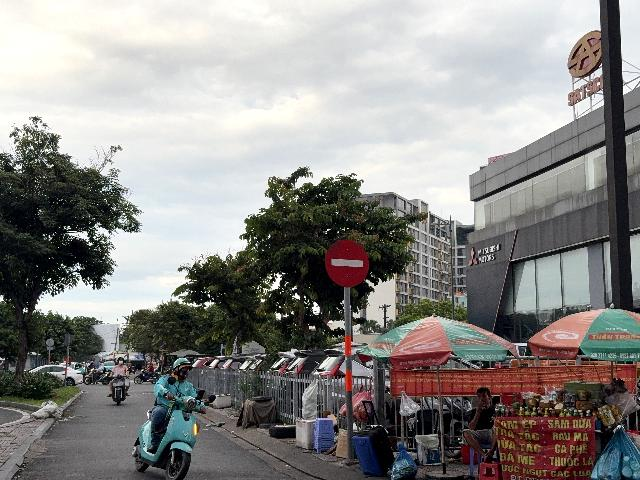cam-di-nguoc-chieu: (325, 240, 370, 288)
